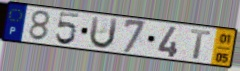4: (155, 24, 180, 59)
5: (54, 11, 81, 47)
7: (122, 18, 148, 55)
8: (26, 10, 52, 42)
T: (189, 28, 212, 61)
U: (88, 15, 120, 50)
